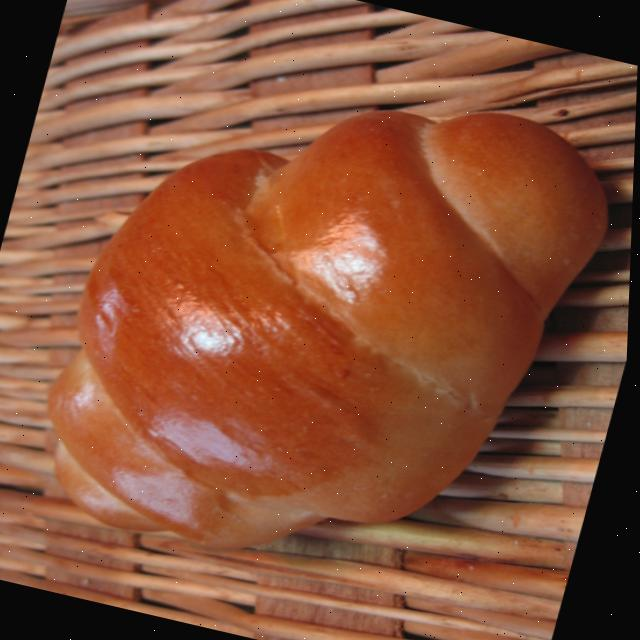面包点心: (14, 23, 634, 623)
